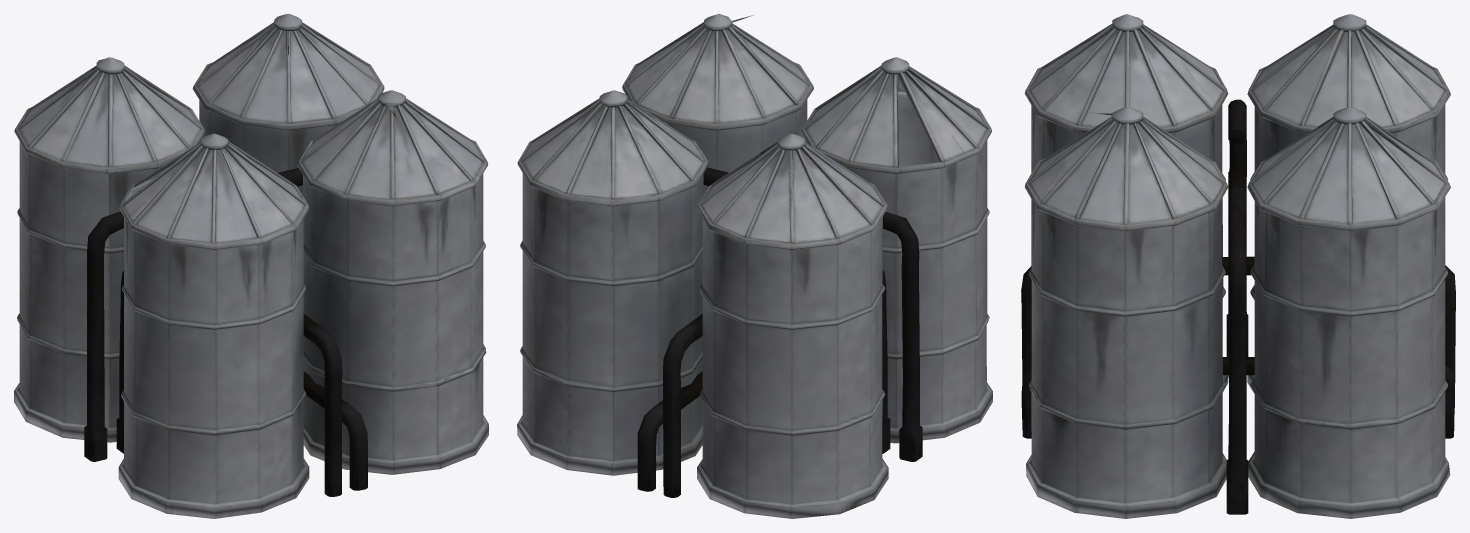
The model's file is 21-industrial-silos.glb.
3 views of the same model, side by side, from view 1: azimuth 30°, elevation 25°; view 2: azimuth 150°, elevation 25°; view 3: azimuth 270°, elevation 25° (orthographic). The views are drawn at different scales.
Visible parts, largest first — view 1: geometry_0; view 2: geometry_0; view 3: geometry_0.
Part boxes in pixels (x1,y1,x2,y2): geometry_0: (14,14,488,518); geometry_0: (517,14,992,518); geometry_0: (1021,14,1455,518).
Size of the model in its own units: 0.9351 by 0.8936 by 0.9541.
1 material, 1 textured.
